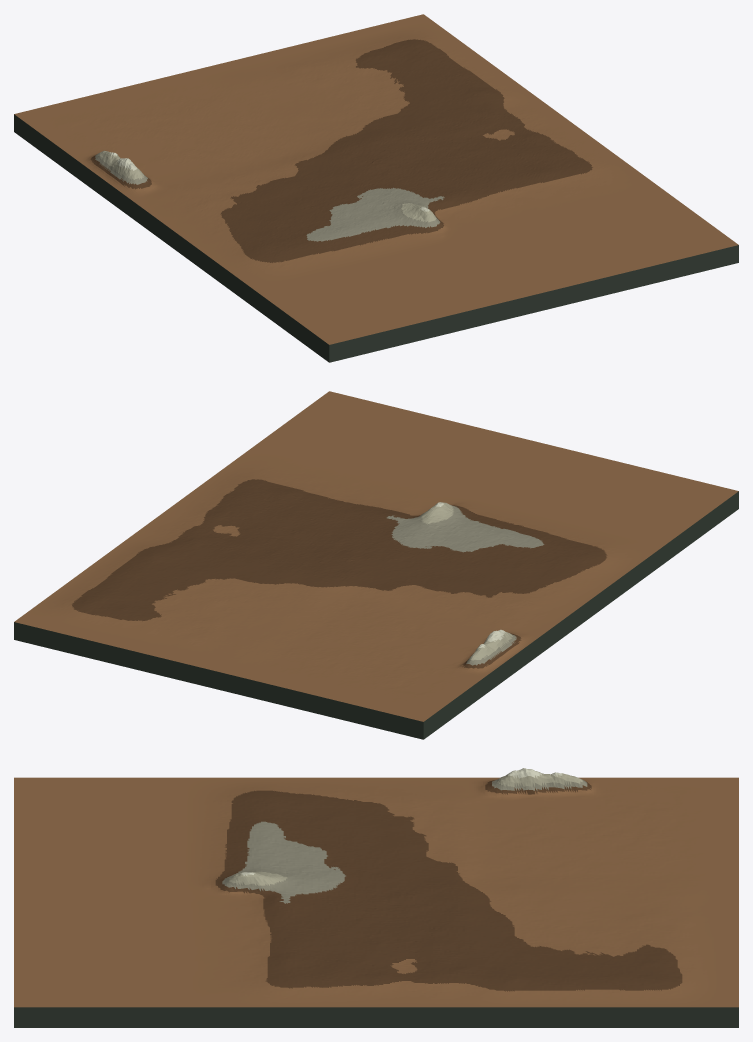
File: adtg_d25.dae
The picture shows the model from 3 angles, top to bottom: view 1: azimuth 30°, elevation 25°; view 2: azimuth 150°, elevation 25°; view 3: azimuth 270°, elevation 25°; orthographic projection. The views are drawn at different scales.
Visible parts, largest first — view 1: terrain_node; view 2: terrain_node; view 3: terrain_node.
Part boxes in pixels (left/top/right/bottom): terrain_node: left=14, top=14, right=738, bottom=362; terrain_node: left=14, top=391, right=738, bottom=739; terrain_node: left=14, top=768, right=738, bottom=1027.
Bounding box in the file's own units: 6 × 8 × 0.5011.
